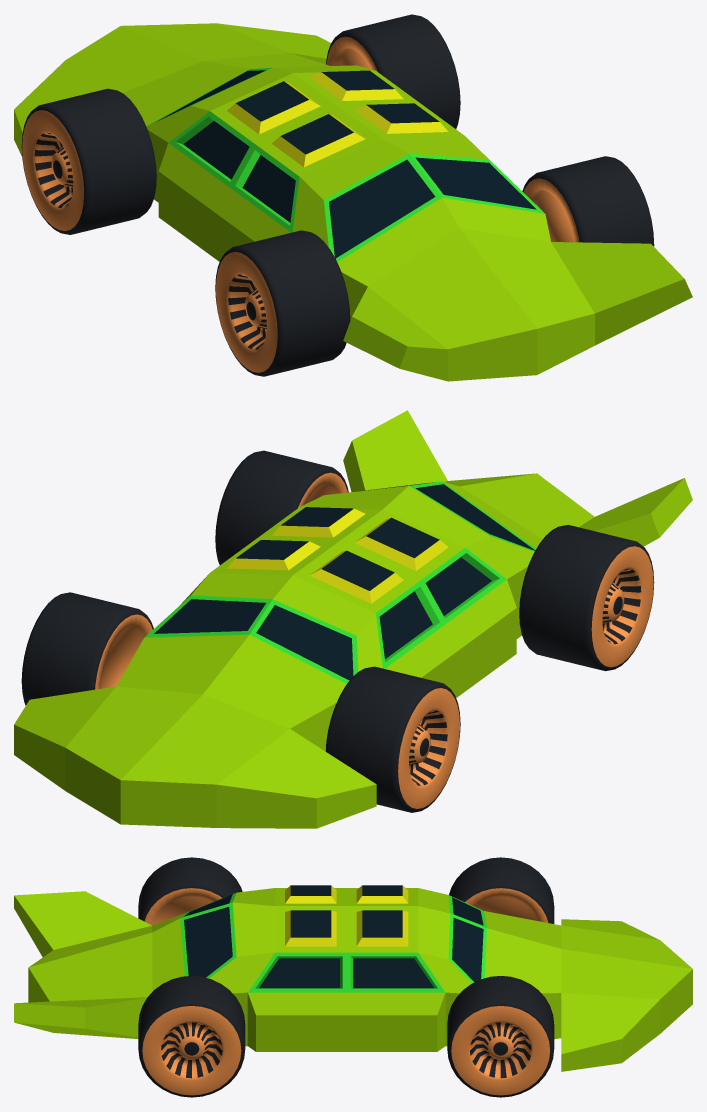
File: car.gltf
3 views of the same model, one above another, from view 1: azimuth 30°, elevation 25°; view 2: azimuth 150°, elevation 25°; view 3: azimuth 270°, elevation 25° (orthographic). The views are drawn at different scales.
Visible parts, largest first — view 1: Mesh_CarBody, 0_Mesh_Wheel_FrontLeft, 2_Mesh_Wheel_BackLeft, 3_Mesh_Wheel_BackRight, 1_Mesh_Wheel_FrontRight; view 2: Mesh_CarBody, 2_Mesh_Wheel_BackLeft, 0_Mesh_Wheel_FrontLeft, 1_Mesh_Wheel_FrontRight, 3_Mesh_Wheel_BackRight; view 3: Mesh_CarBody, 1_Mesh_Wheel_FrontRight, 3_Mesh_Wheel_BackRight, 0_Mesh_Wheel_FrontLeft, 2_Mesh_Wheel_BackLeft.
Part boxes in pixels (<box>): Mesh_CarBody: <box>14,23,692,381</box>; 0_Mesh_Wheel_FrontLeft: <box>21,88,156,234</box>; 2_Mesh_Wheel_BackLeft: <box>215,230,350,376</box>; 3_Mesh_Wheel_BackRight: <box>522,156,654,246</box>; 1_Mesh_Wheel_FrontRight: <box>326,14,460,128</box>; Mesh_CarBody: <box>14,410,692,828</box>; 2_Mesh_Wheel_BackLeft: <box>519,525,654,671</box>; 0_Mesh_Wheel_FrontLeft: <box>325,666,460,812</box>; 1_Mesh_Wheel_FrontRight: <box>21,592,153,705</box>; 3_Mesh_Wheel_BackRight: <box>215,450,348,565</box>; Mesh_CarBody: <box>14,885,692,1071</box>; 1_Mesh_Wheel_FrontRight: <box>447,976,554,1097</box>; 3_Mesh_Wheel_BackRight: <box>138,976,245,1097</box>; 0_Mesh_Wheel_FrontLeft: <box>449,857,554,923</box>; 2_Mesh_Wheel_BackLeft: <box>138,857,242,925</box>.
Size of what is drawn, in the model's own units: 5.25 by 2.07 by 10.3.
